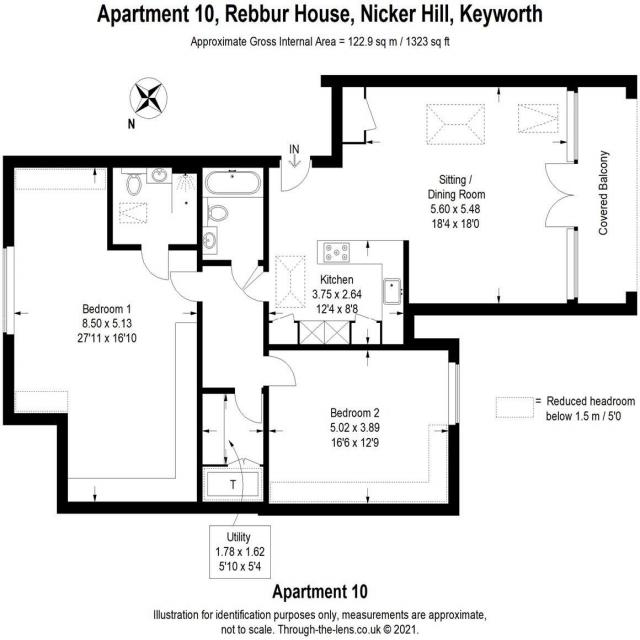DOOR: (277, 155, 313, 195), (136, 243, 171, 284), (168, 268, 203, 306), (263, 352, 298, 389), (232, 387, 264, 425)
DOUBLE DOOR: (541, 159, 585, 230)
ROOM: (262, 75, 586, 351), (3, 155, 202, 514), (264, 338, 460, 515)
WINDOW: (561, 227, 584, 303), (0, 239, 18, 336), (564, 88, 583, 163), (446, 358, 461, 427)
